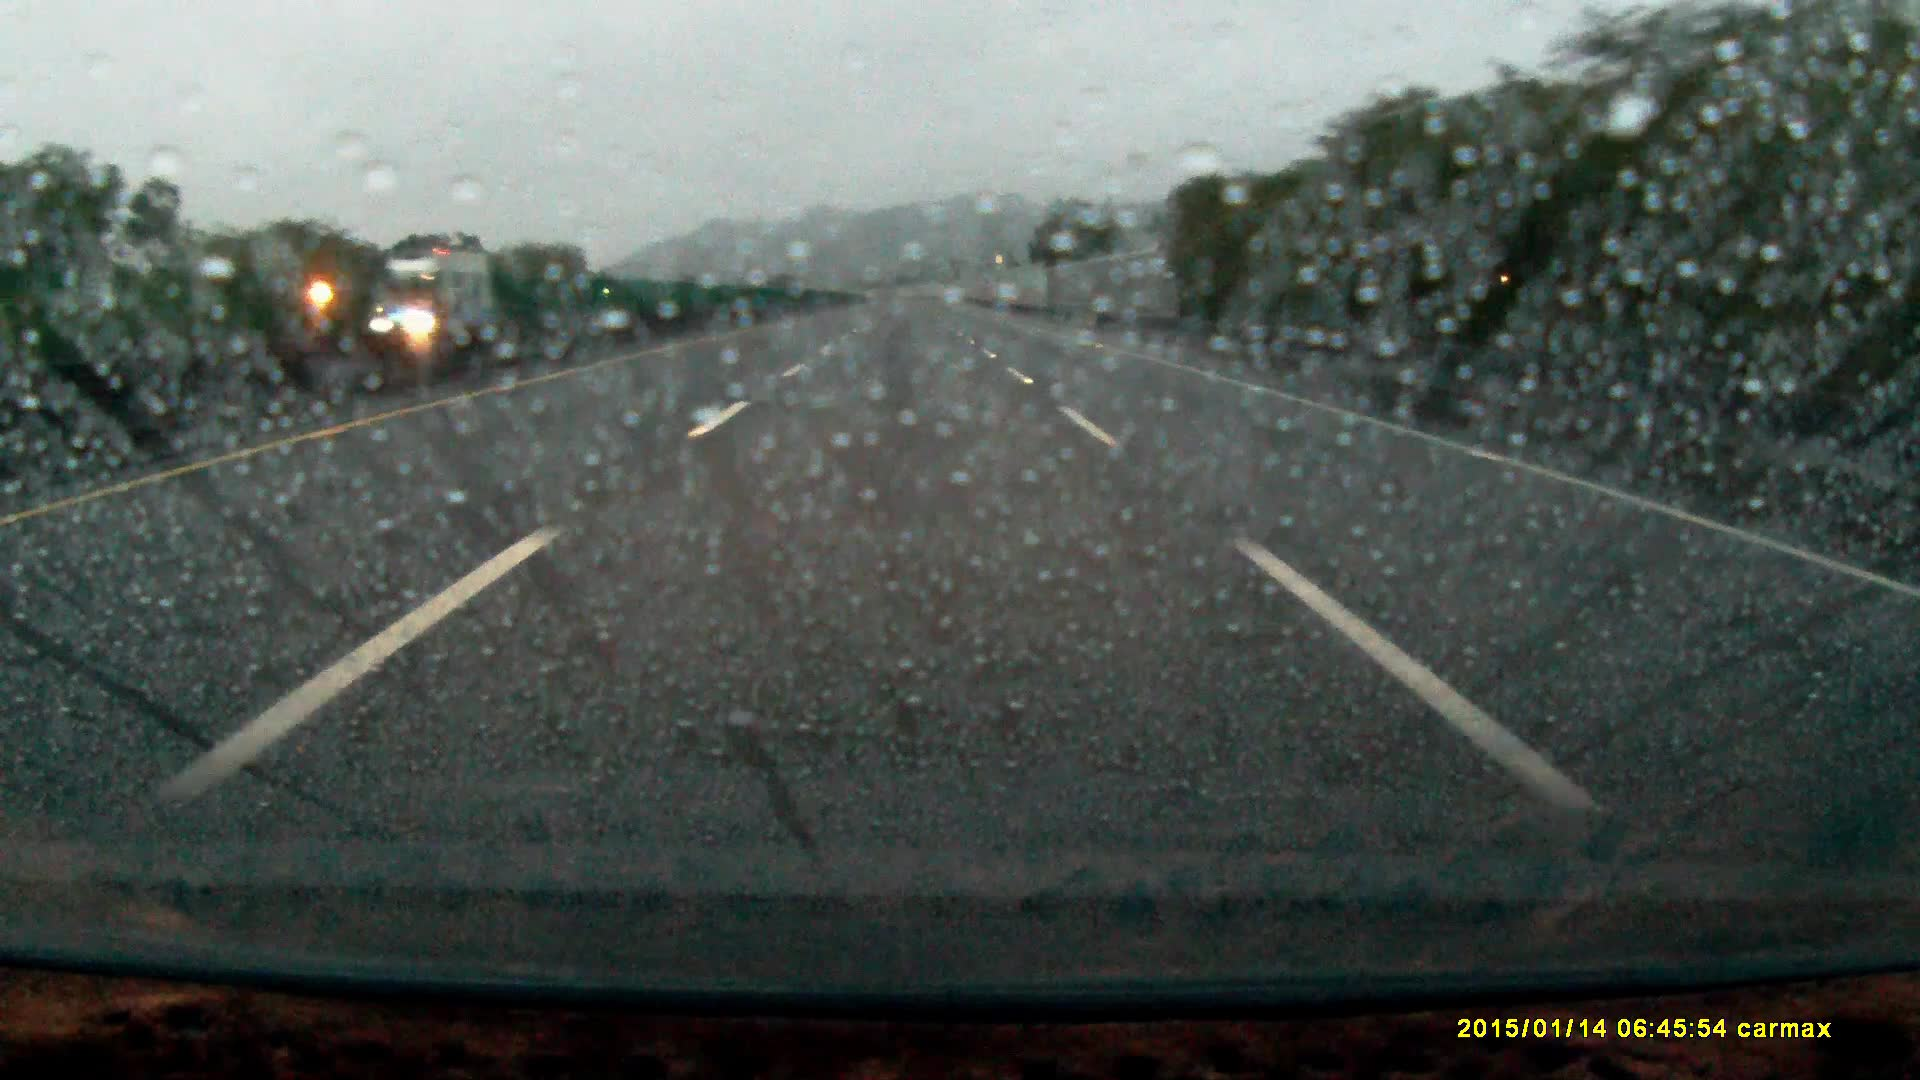vehicle: (367, 252, 495, 345)
